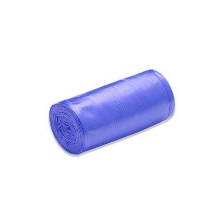plastic_bag: (47, 66, 188, 159)
